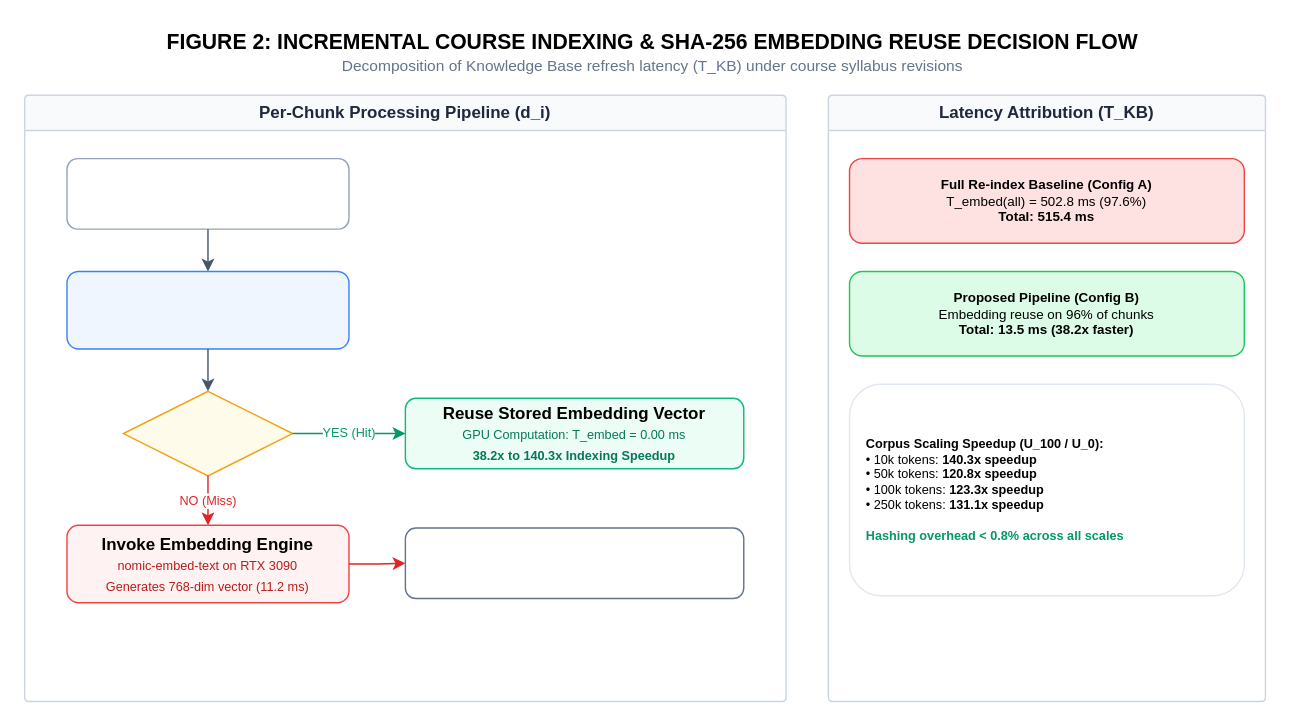
The diagram is 1290 pixels wide and 726 high, and some of its shapes have lost their labels. Each missing label, with the centre of its shape:
"1. Normalized Chunk (d_i) Text / Code Segment (~500 chars)" belongs at (x=207, y=193).
"2. Compute SHA-256 Hash h_i = SHA256(model_tag : d_i) T_hash <= 0.02 ms" belongs at (x=207, y=309).
"Hash in Cache? T_lookup ~0.04 ms" belongs at (x=207, y=433).
"Write to Cache & Index Store key h_i -> v_i (T_index ~ 1.2 ms)" belongs at (x=574, y=563).
